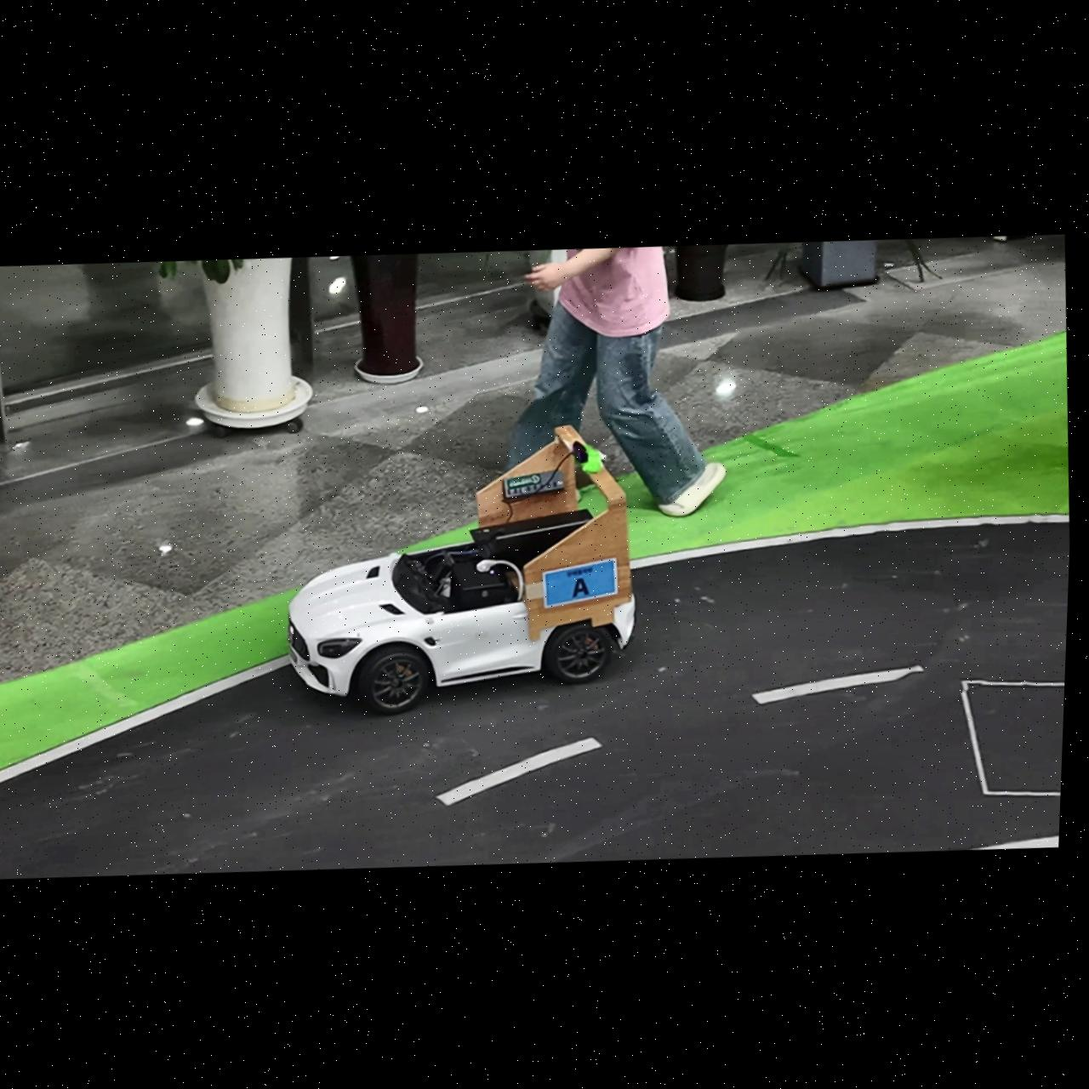broken_line: (436, 737, 602, 805), (751, 664, 924, 704)
